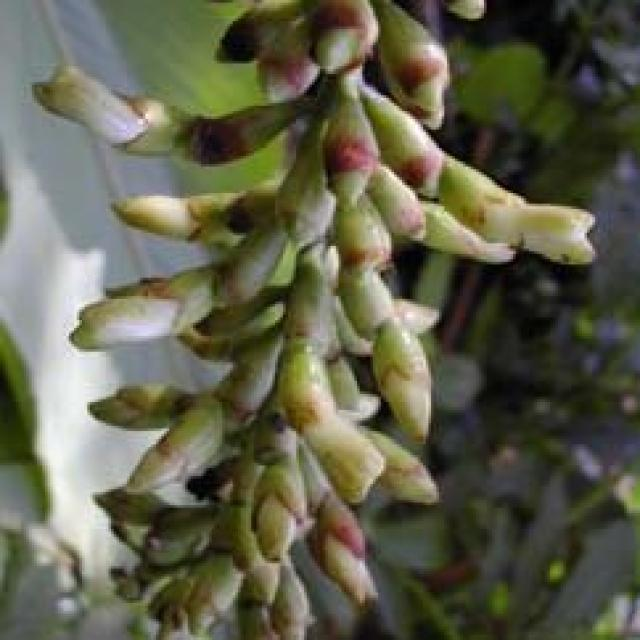Aquatic-Ginger: (31, 0, 597, 637)
